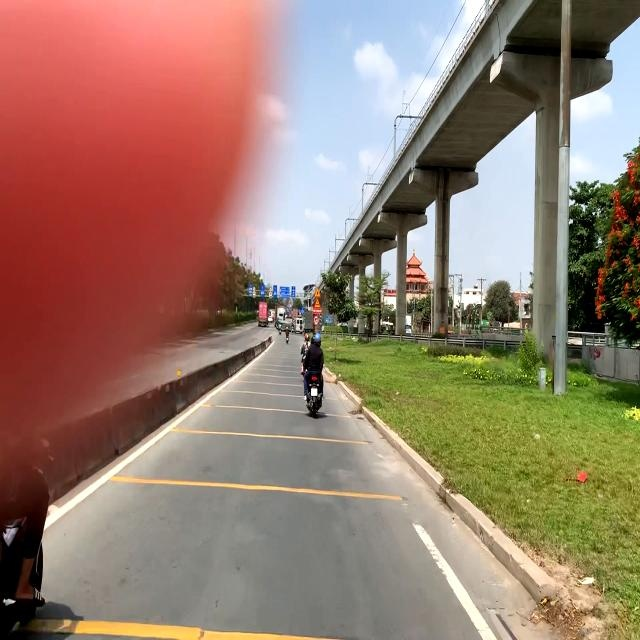bien_chi_dan: (313, 315, 320, 326), (314, 298, 321, 307), (314, 287, 320, 297)
